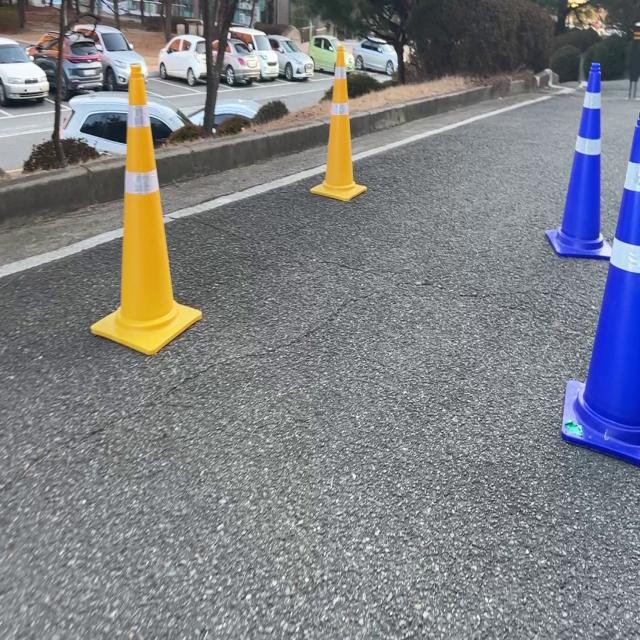cone: (100, 50, 180, 324), (552, 53, 605, 234), (312, 40, 361, 194)
